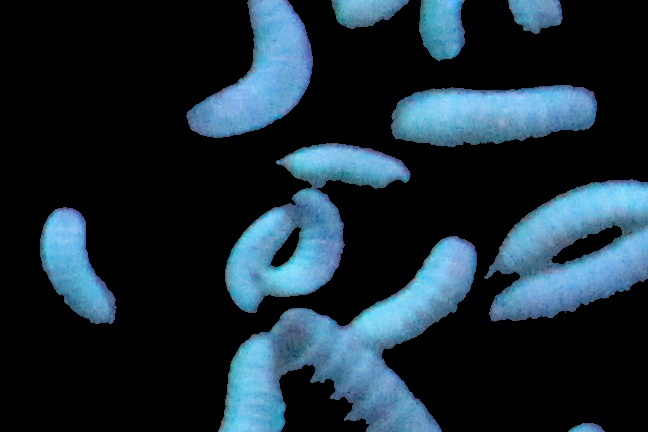larvae: (276, 307, 442, 432), (185, 1, 314, 142), (491, 229, 648, 325), (489, 182, 648, 274), (350, 237, 478, 345), (390, 81, 599, 146), (38, 206, 119, 337), (265, 191, 346, 296), (223, 204, 293, 313), (221, 327, 289, 432), (279, 141, 413, 191), (416, 1, 467, 61)
